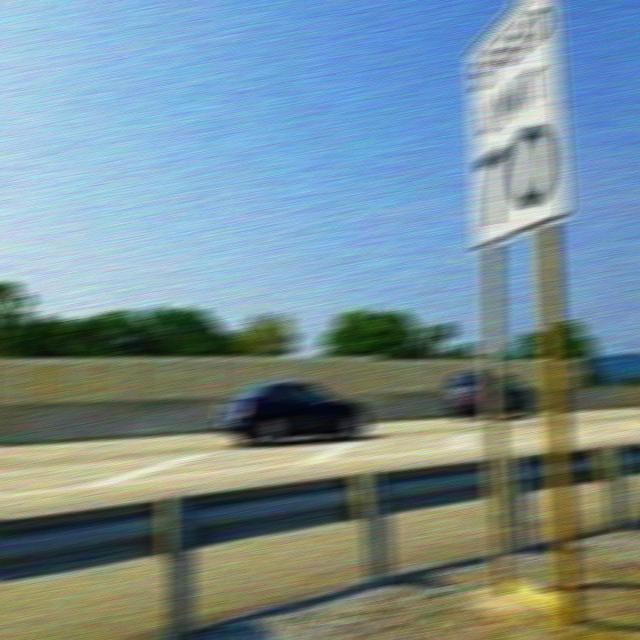speedLimit70: (463, 6, 572, 256)
